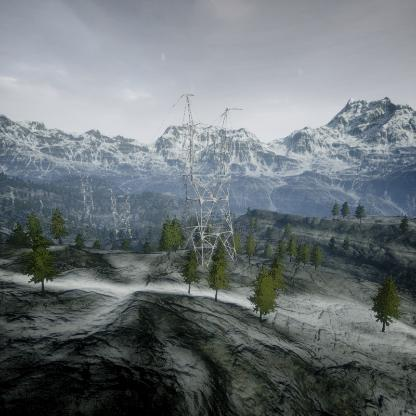tower: (172, 96, 246, 273)
